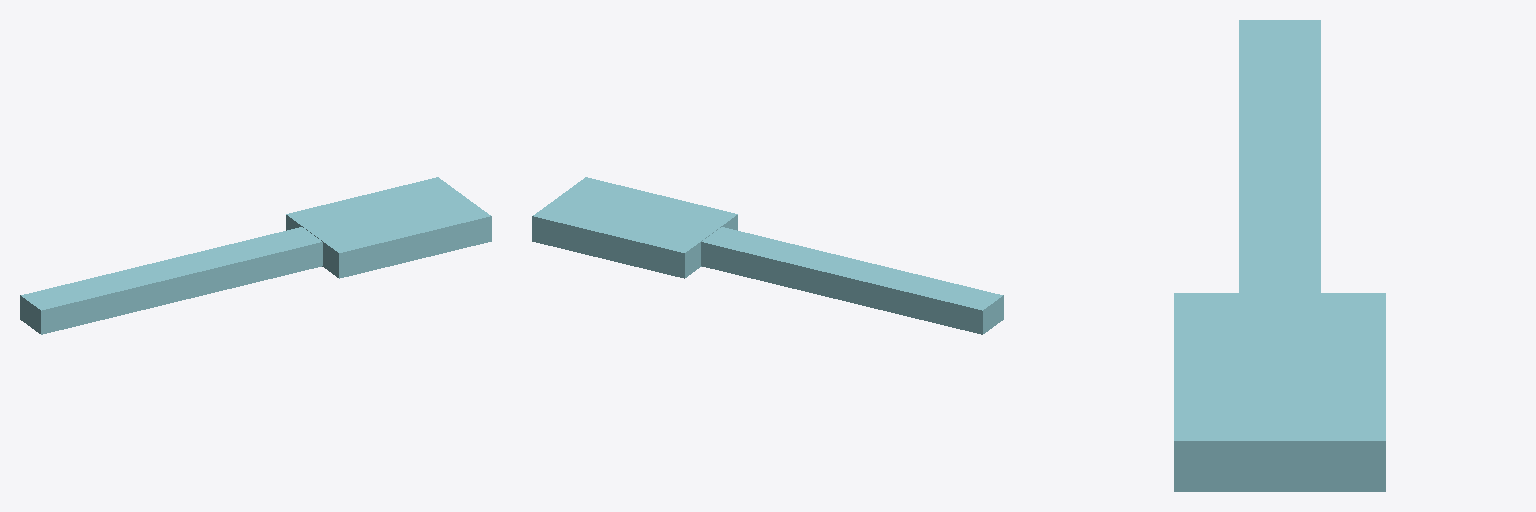
The robot description file, URDF, robot "cuboid_spatula_v5007":
<?xml version="1.0"?>
<robot name="cuboid_spatula_v5007">

  <link name="cuboid_spatula_v5007">
    <!-- Handle -->
    <visual>
      <origin xyz="0 0 0" rpy="0 0 0"/>
      <geometry>
        <box size="0.1886402886723708 0.024013214966189897 0.015569025578478887"/>
      </geometry>
      <material name="material">
        <color rgba="0.639 0.847 0.882 1.0"/>
      </material>
    </visual>
    <collision>
      <origin xyz="0 0 0" rpy="0 0 0"/>
      <geometry>
        <box size="0.1886402886723708 0.024013214966189897 0.015569025578478887"/>
      </geometry>
    </collision>

    <!-- Head -->
    <visual>
      <origin xyz="0.14533390007321384 0 0" rpy="0 0 0"/>
      <geometry>
        <box size="0.1020275114740569 0.06199481643055346 0.016289013834884025"/>
      </geometry>
      <material name="material">
        <color rgba="0.639 0.847 0.882 1.0"/>
      </material>
    </visual>
    <collision>
      <origin xyz="0.14533390007321384 0 0" rpy="0 0 0"/>
      <geometry>
        <box size="0.1020275114740569 0.06199481643055346 0.016289013834884025"/>
      </geometry>
    </collision>

    <inertial>
      <density value="400.0"/>
    </inertial>
  </link>

</robot>

--- Facts derived from the render (not from the file) ---
Views: 3 orthographic renders of the robot side by side, from view 1: azimuth 30°, elevation 25°; view 2: azimuth 150°, elevation 25°; view 3: azimuth 270°, elevation 25°.
Robot: cuboid_spatula_v5007 — 1 links, 0 joints (none); root link cuboid_spatula_v5007; default pose: all joints at 0.
Visible links, largest first — view 1: cuboid_spatula_v5007; view 2: cuboid_spatula_v5007; view 3: cuboid_spatula_v5007.
Boxes of the visible links, <box> form: cuboid_spatula_v5007: <box>20,177,491,334</box>; cuboid_spatula_v5007: <box>532,177,1003,334</box>; cuboid_spatula_v5007: <box>1174,20,1385,491</box>.
Bounding box of the posed robot: 0.2907 × 0.062 × 0.0163 m (x, y, z).
Geometry: primitives only (box / cylinder / sphere), no mesh files.
